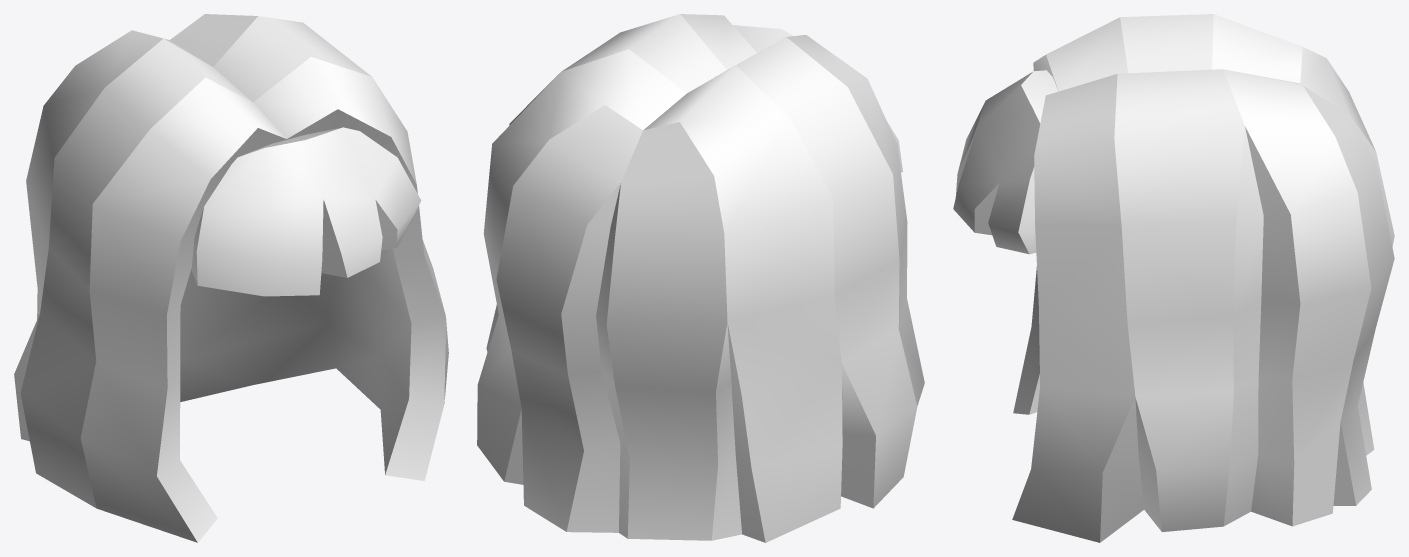
The model's file is Female_Hairs_07_v4.fbx.
3 views of the same model, side by side, from view 1: azimuth 30°, elevation 25°; view 2: azimuth 150°, elevation 25°; view 3: azimuth 270°, elevation 25° (orthographic). The views are drawn at different scales.
Visible parts, largest first — view 1: Female_Hairs_07_v4; view 2: Female_Hairs_07_v4; view 3: Female_Hairs_07_v4.
Boxes of the visible parts, x1,y1,x2,y2 form: Female_Hairs_07_v4: [14, 14, 448, 542]; Female_Hairs_07_v4: [477, 14, 924, 542]; Female_Hairs_07_v4: [953, 14, 1394, 542].
Size of the model in its own units: 67.03 by 70.64 by 64.57.
